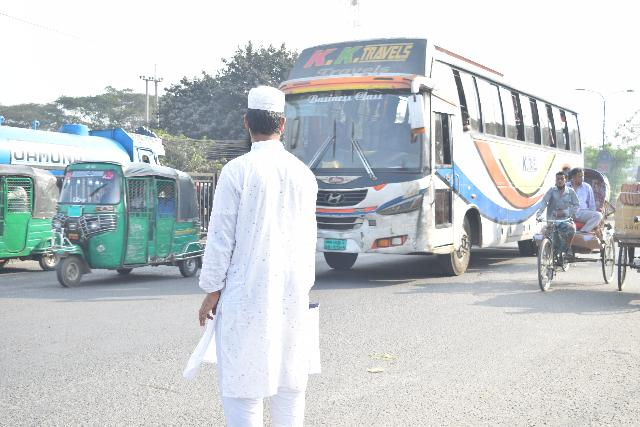bus: (272, 32, 586, 280)
truck: (0, 114, 172, 176)
